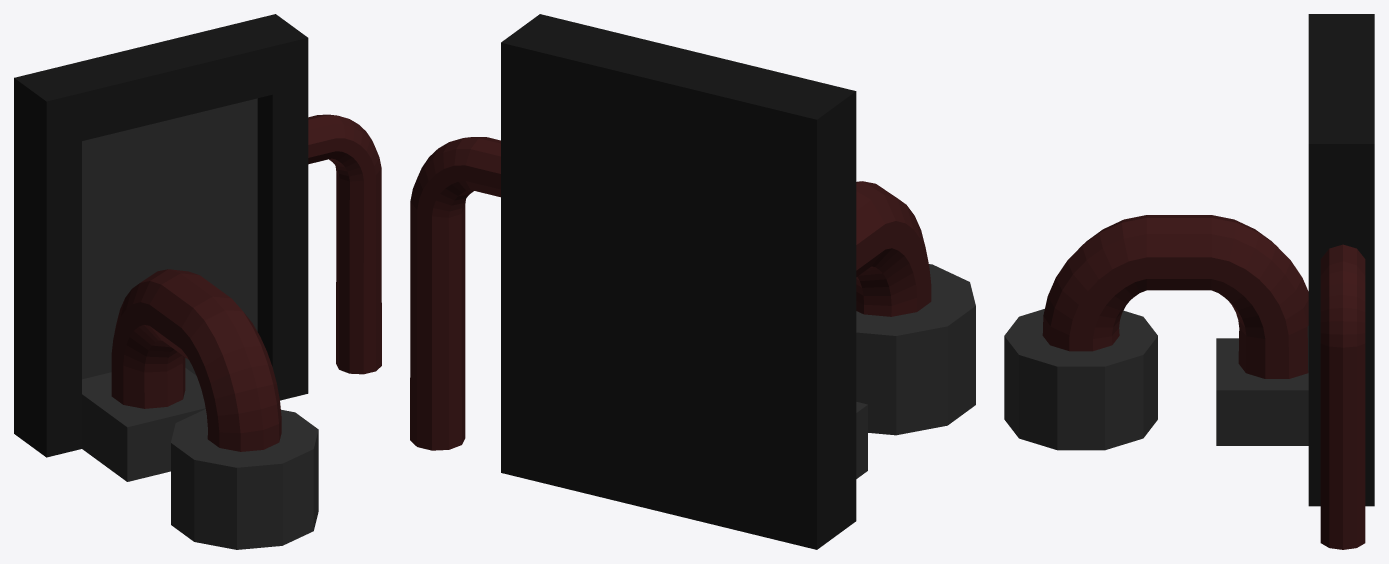
Rendered from SM_industrialprop01.FBX.
3 views of the same model, side by side, from view 1: azimuth 30°, elevation 25°; view 2: azimuth 150°, elevation 25°; view 3: azimuth 270°, elevation 25° (orthographic). The views are drawn at different scales.
Parts seen in each view (by area): view 1: industrialprops; view 2: industrialprops; view 3: industrialprops.
Boxes of the visible parts, x1,y1,x2,y2 form: industrialprops: (14, 14, 381, 549); industrialprops: (410, 14, 975, 549); industrialprops: (1004, 14, 1374, 549).
Bounding box in the file's own units: 133 × 130 × 120.
